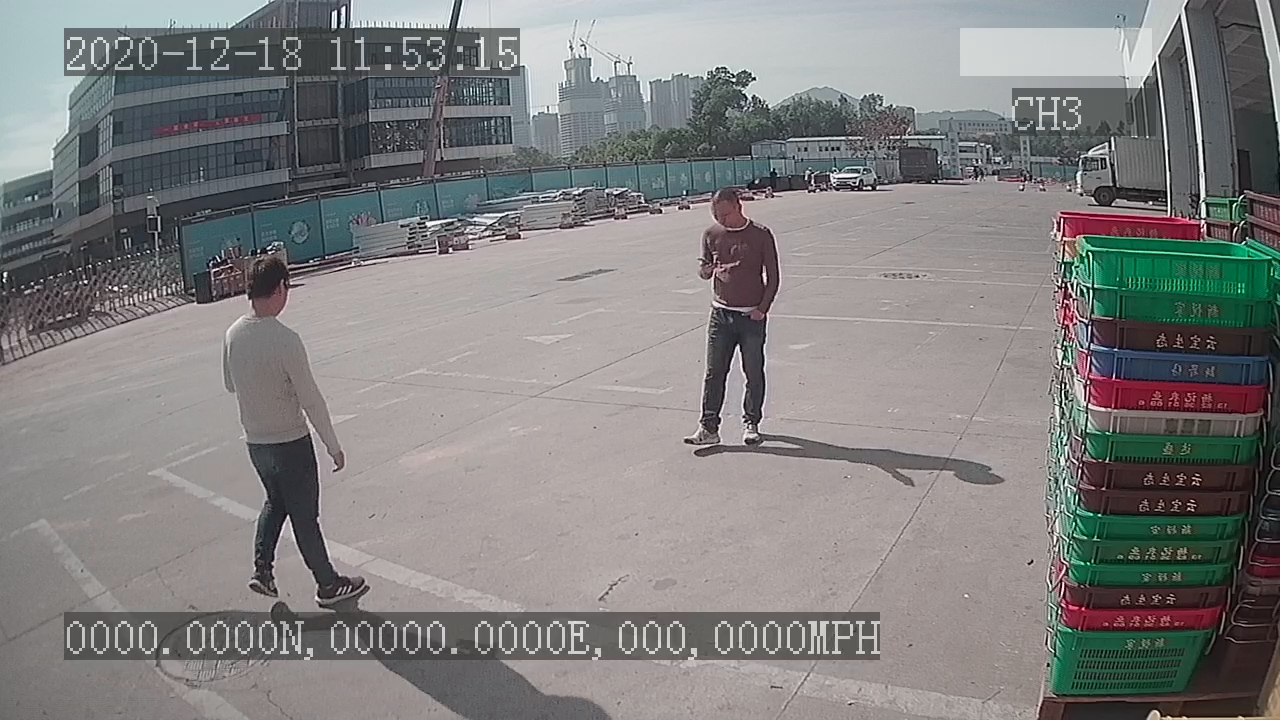person: (679, 183, 783, 451)
